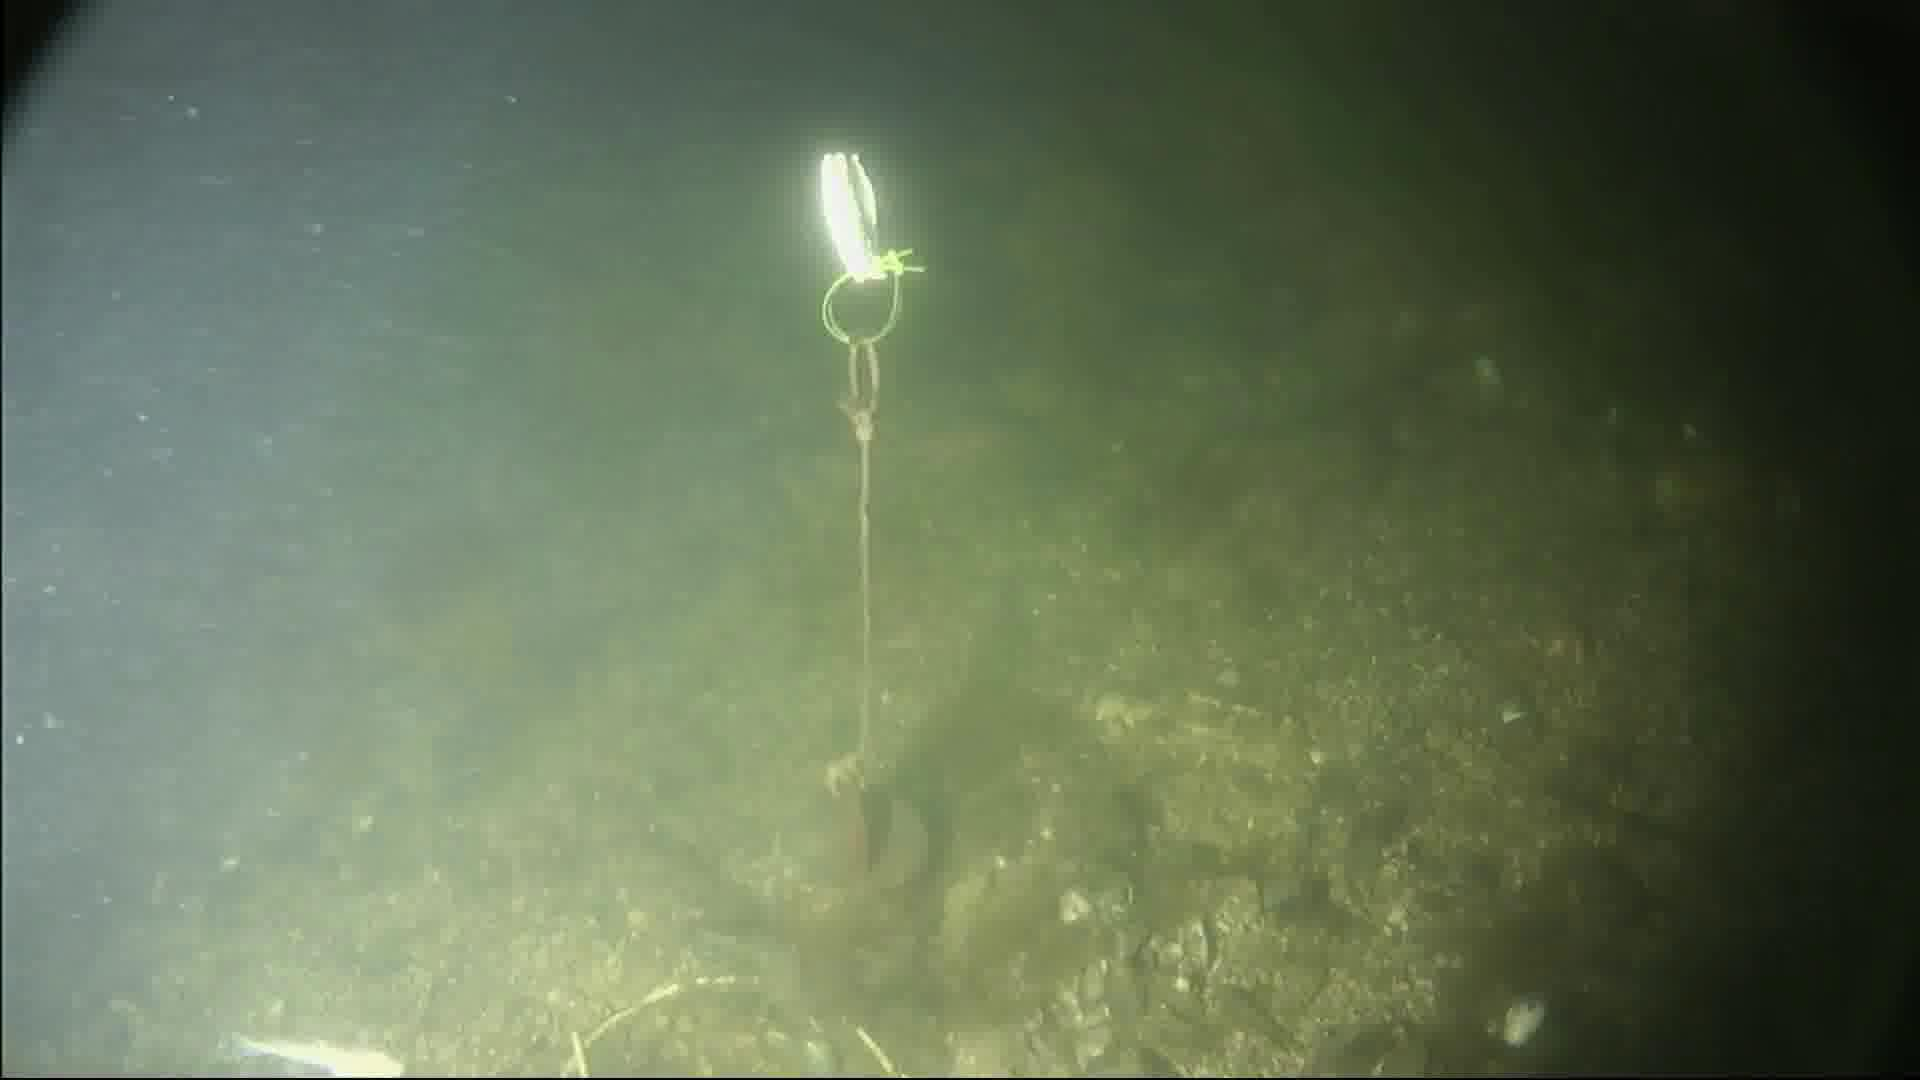small_fish: (227, 1027, 407, 1079)
